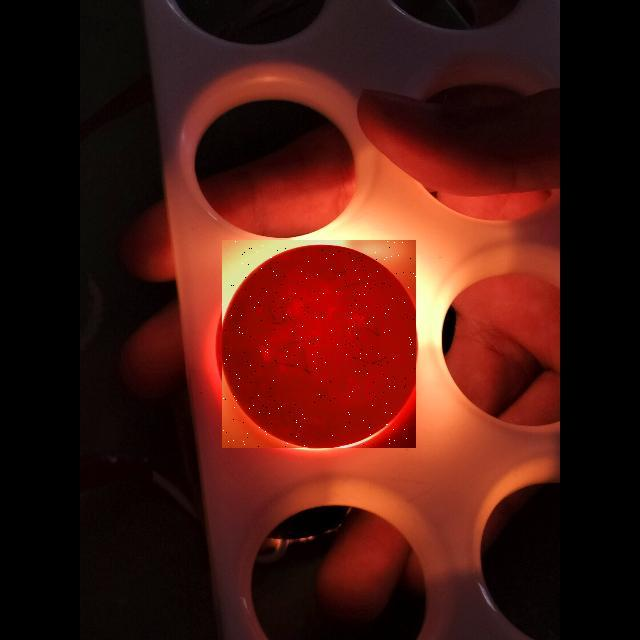Infertile: (222, 240, 416, 448)
